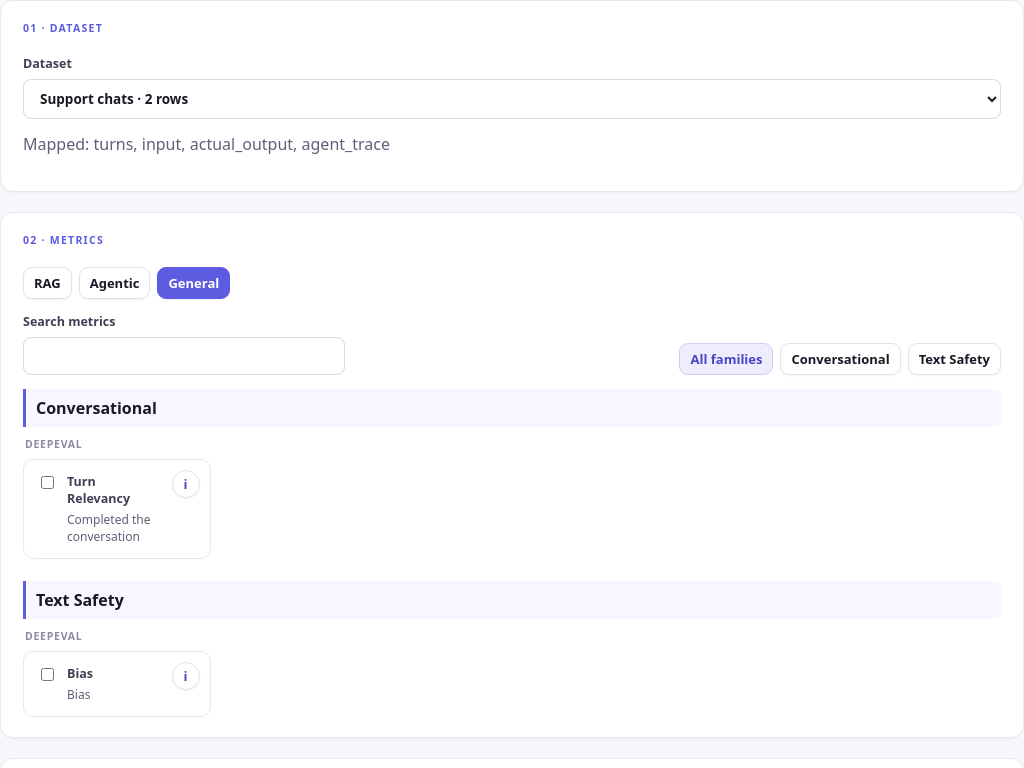
RunWizard › keeps conversation, single-turn, and trace metrics in separate runs
What coordinates should you click on to do the following:
click the checkbox labelled "Turn Relevancy"
I would click on:
 (48, 483)
Its box is 41,476 -> 54,489.
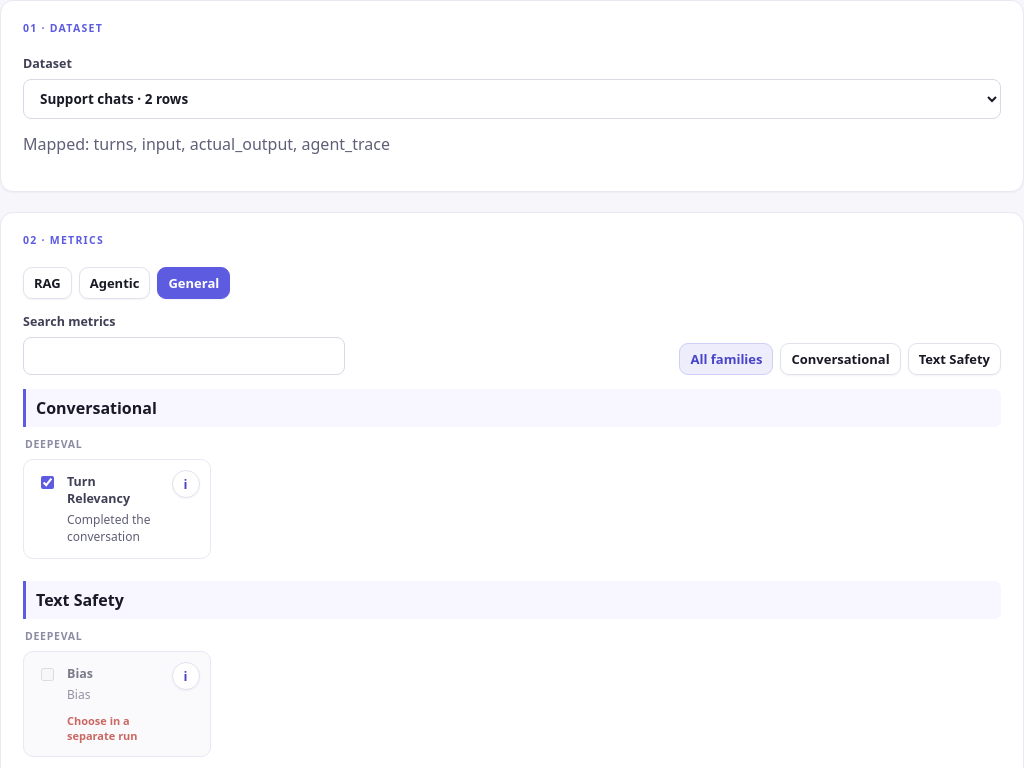
Now the checkbox labelled "Bias" is disabled, box 41,668 -> 54,681
Now the text "Choose in a separate run" is shown, box 67,713 -> 138,743
What coordinates should you click on to do the following:
click the button "Agentic"
I would click on:
 (115, 283)
Its box is 79,267 -> 150,299.
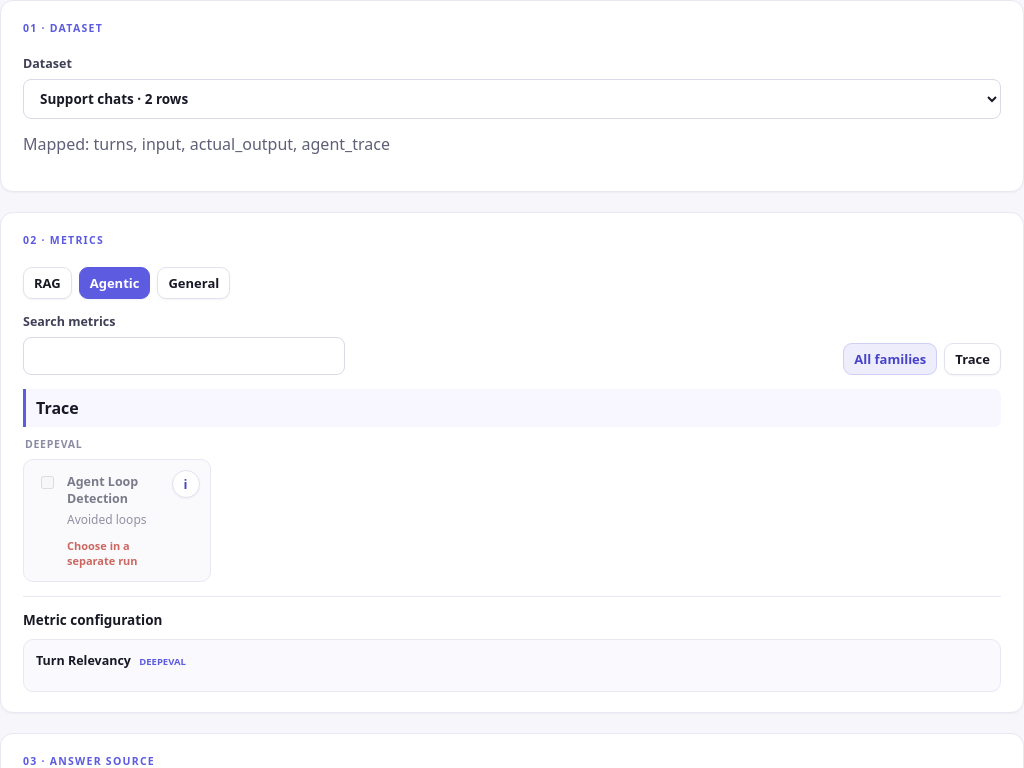
Now the checkbox labelled "Agent Loop Detection" is disabled, box 41,476 -> 54,489
